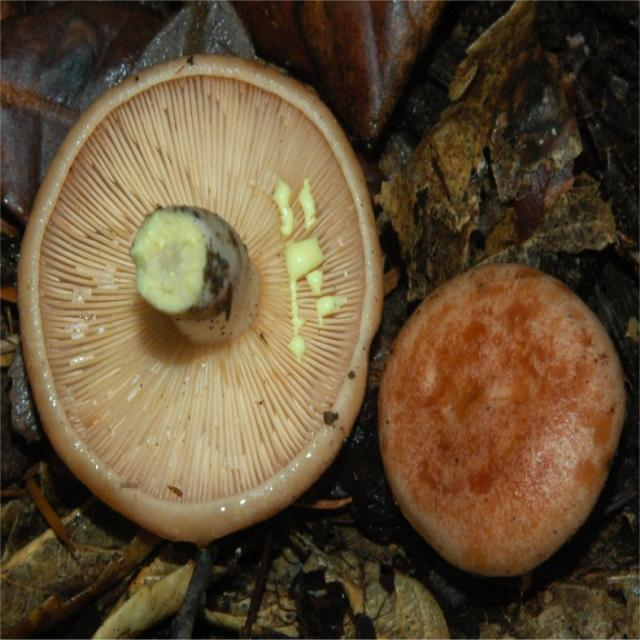Armillaria mellea: (22, 56, 381, 544), (374, 264, 626, 574)
